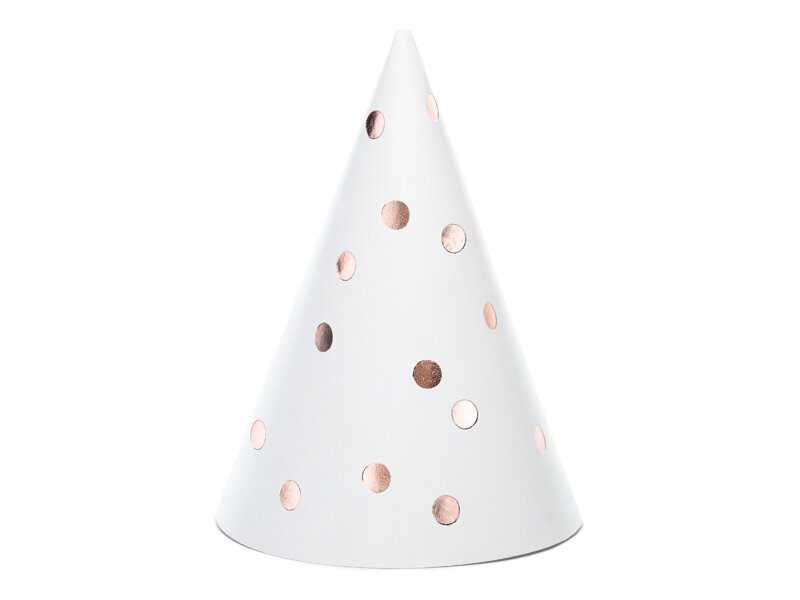cone: (216, 30, 583, 569)
